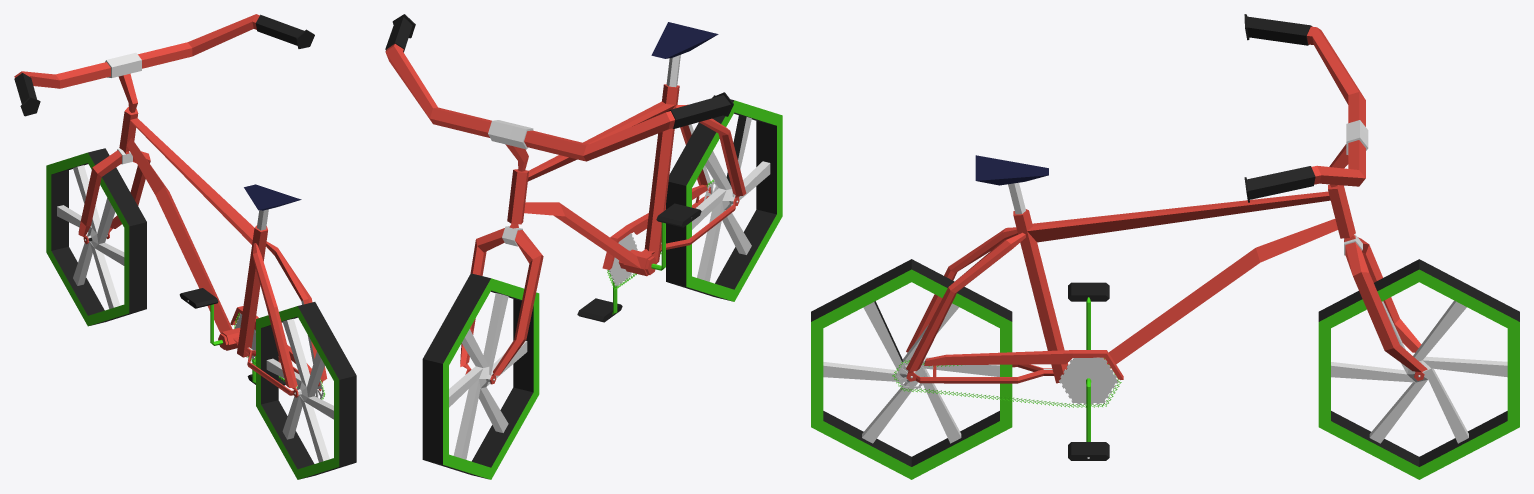
The model's file is Bike1-1.fbx.
3 views of the same model, side by side, from view 1: azimuth 30°, elevation 25°; view 2: azimuth 150°, elevation 25°; view 3: azimuth 270°, elevation 25° (orthographic). The views are drawn at different scales.
Visible parts, largest first — view 1: BikeBack, BackWheel, FrontWheel, HandleBars; view 2: FrontWheel, BikeBack, BackWheel, HandleBars; view 3: BikeBack, FrontWheel, BackWheel, HandleBars, Chain.
Part boxes in pixels (x1,y1,x2,y2): BikeBack: [119, 107, 327, 399]; BackWheel: [256, 302, 356, 479]; FrontWheel: [46, 148, 146, 326]; HandleBars: [14, 14, 314, 244]; FrontWheel: [422, 273, 539, 479]; BikeBack: [507, 22, 746, 322]; BackWheel: [666, 95, 782, 301]; HandleBars: [385, 14, 733, 384]; BikeBack: [895, 155, 1355, 460]; FrontWheel: [1318, 259, 1519, 479]; BackWheel: [811, 259, 1012, 479]; HandleBars: [1244, 14, 1427, 380]; Chain: [892, 358, 1121, 407].
Size of the model in its own units: 3356 by 3419 by 5791.
